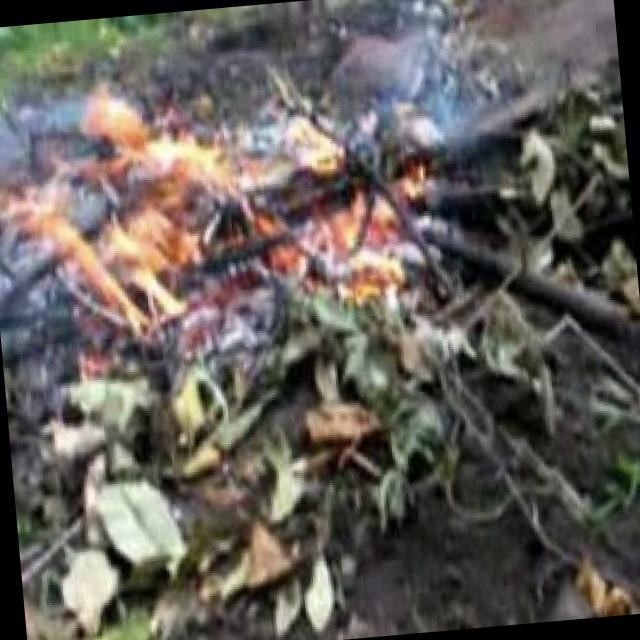Fire: (3, 53, 433, 340)
